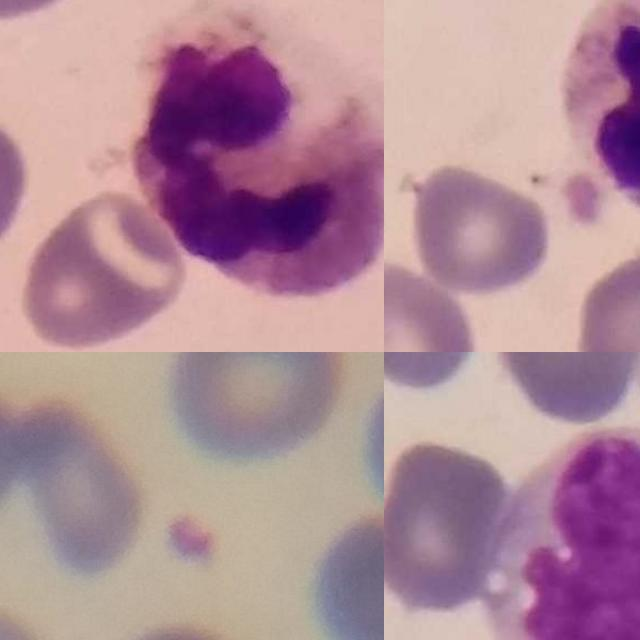Monocyte: (490, 430, 640, 640)
Neutrophil: (126, 3, 384, 296), (560, 0, 640, 218)
